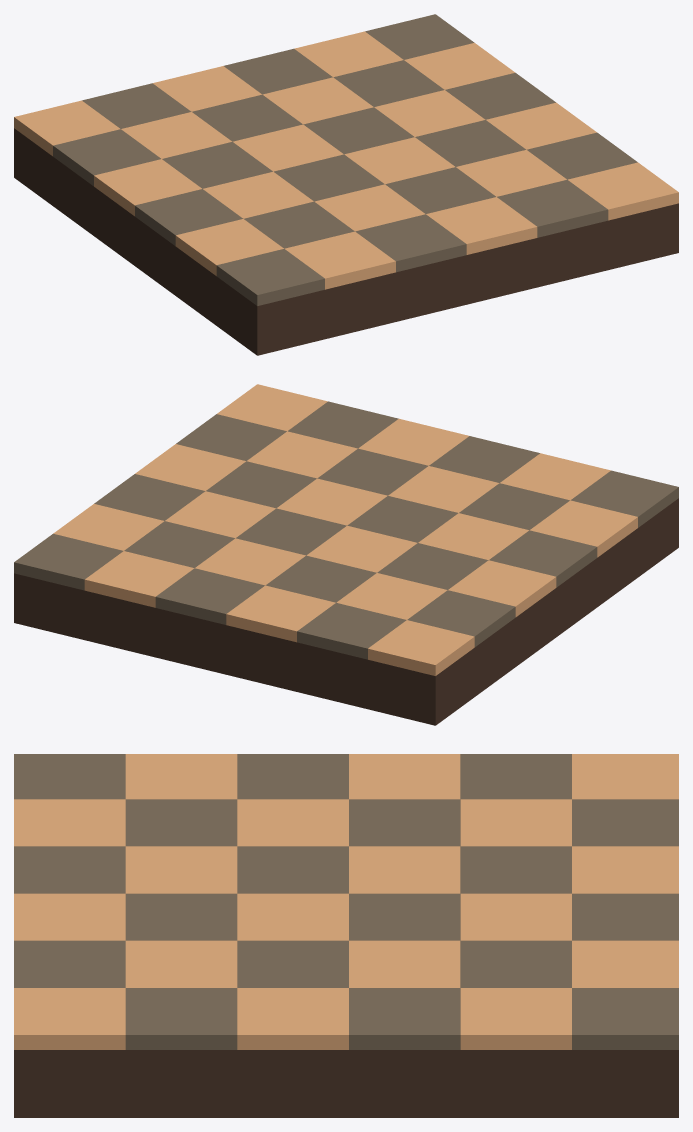
Rendered from S_FloorBathroom.fbx.
The picture shows the model from 3 angles, top to bottom: view 1: azimuth 30°, elevation 25°; view 2: azimuth 150°, elevation 25°; view 3: azimuth 270°, elevation 25°; orthographic projection. The views are drawn at different scales.
Visible parts, largest first — view 1: S_FloorBathroom; view 2: S_FloorBathroom; view 3: S_FloorBathroom.
Part boxes in pixels (x1,y1,x2,y2): S_FloorBathroom: [14, 14, 678, 355]; S_FloorBathroom: [14, 384, 678, 725]; S_FloorBathroom: [14, 754, 678, 1117].
Size of the model in its own units: 200 by 27.5 by 200.
